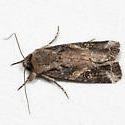army worm adult: (4, 27, 124, 114)
